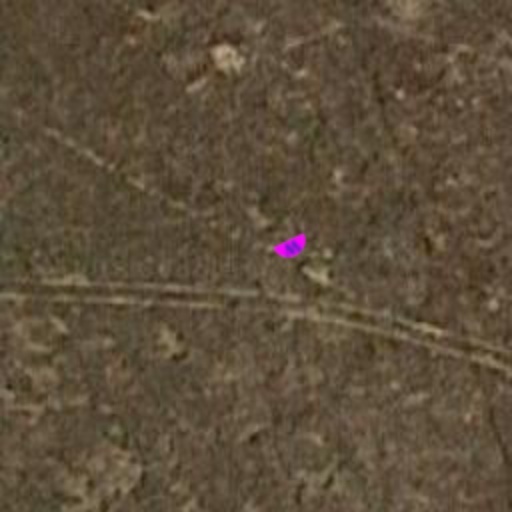semicircle: (268, 224, 316, 272)
